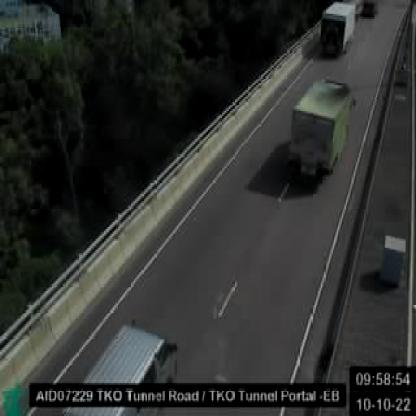Car: (57, 322, 174, 412), (362, 0, 380, 17)
Truck: (287, 83, 351, 188), (319, 2, 355, 56)
